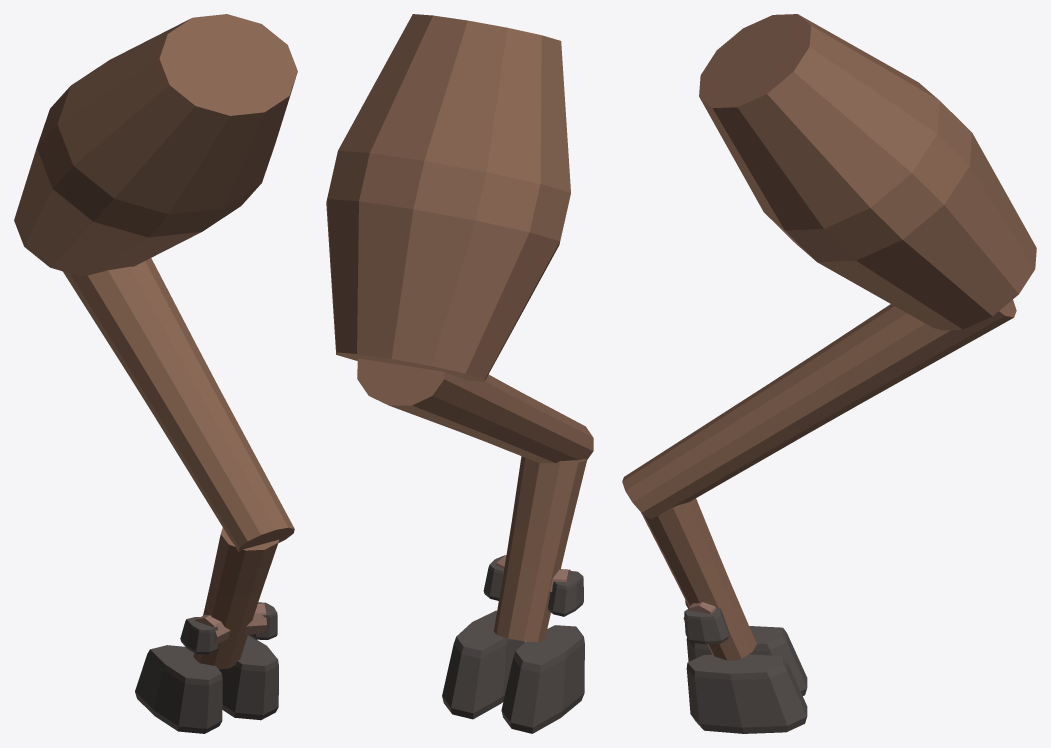
The model's file is HindL.glb.
3 renders of one model, left to right at view 1: azimuth 30°, elevation 25°; view 2: azimuth 150°, elevation 25°; view 3: azimuth 270°, elevation 25°, orthographic. The views are drawn at different scales.
Visible parts, largest first — view 1: HindLUpper, HindLLower, HindLClove0, HindLPastern, HindLClove1, HindLDewclaw2, HindLDewclaw3, HindLDewclawMount3; view 2: HindLUpper, HindLLower, HindLPastern, HindLClove0, HindLClove1, HindLDewclaw2, HindLDewclaw3; view 3: HindLUpper, HindLLower, HindLClove1, HindLPastern, HindLClove0, HindLDewclaw3.
Boxes of the visible parts, <box> form: HindLUpper: <box>14,14,297,276</box>; HindLLower: <box>63,258,294,552</box>; HindLClove0: <box>135,645,222,733</box>; HindLPastern: <box>193,527,278,669</box>; HindLClove1: <box>219,635,278,720</box>; HindLDewclaw2: <box>180,617,218,654</box>; HindLDewclaw3: <box>248,602,277,639</box>; HindLDewclawMount3: <box>244,603,266,634</box>; HindLUpper: <box>326,14,570,381</box>; HindLLower: <box>357,358,593,463</box>; HindLPastern: <box>493,456,586,642</box>; HindLClove0: <box>501,625,584,733</box>; HindLClove1: <box>442,610,525,719</box>; HindLDewclaw2: <box>548,571,583,616</box>; HindLDewclaw3: <box>483,555,504,600</box>; HindLUpper: <box>699,14,1036,330</box>; HindLLower: <box>622,299,1016,520</box>; HindLClove1: <box>686,654,807,733</box>; HindLPastern: <box>641,498,756,660</box>; HindLClove0: <box>686,626,807,695</box>; HindLDewclaw3: <box>684,608,728,644</box>.
Size of the model in its own units: 0.3859 by 1.17 by 0.6395.
